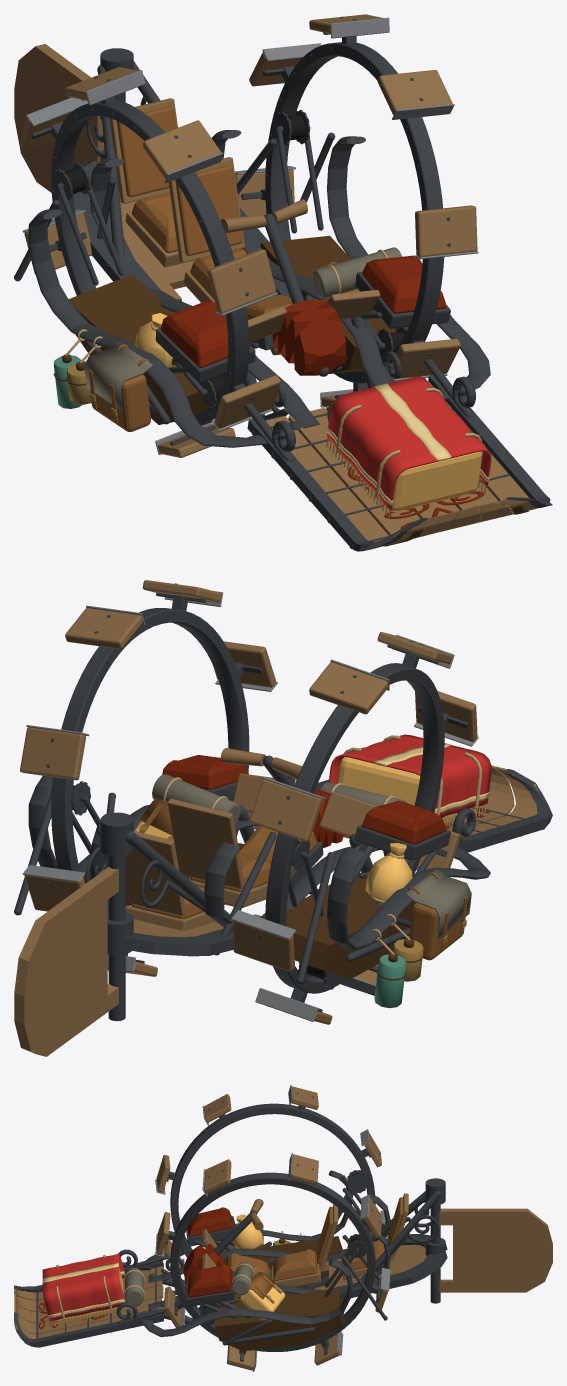
File: desert_monowheel_double.fbx
The picture shows the model from 3 angles, top to bottom: view 1: azimuth 30°, elevation 25°; view 2: azimuth 150°, elevation 25°; view 3: azimuth 270°, elevation 25°; orthographic projection. The views are drawn at different scales.
Parts seen in each view (by area): view 1: Mesh_CargoRug_Double, Mesh_RingR_Double, Mesh_RingL_Double, Mesh_SkiDeck_Double, Mesh_SideHoopOuterR_Double, Mesh_TailPanel_Double, Mesh_SkiRails_Double, Mesh_BellyPanR_Double, Mesh_FrontCowl_Double, Mesh_SideHoopOuterL_Double, Mesh_CargoBundle_Double, Mesh_CheekR_Double (+55 smaller); view 2: Mesh_TailPanel_Double, Mesh_RingR_Double, Mesh_RingL_Double, Mesh_BellyPanR_Double, Mesh_SideHoopOuterR_Double, Mesh_CargoRug_Double, Mesh_Backrest_Double, Mesh_CheekR_Double, Mesh_Paddle07R_Double, Mesh_Paddle07L_Double, Mesh_SeatPostsR_Double, Mesh_PassengerBackrest_Double (+44 smaller); view 3: Mesh_TailPanel_Double, Mesh_RingL_Double, Mesh_BellyPanL_Double, Mesh_CargoRug_Double, Mesh_RingR_Double, Mesh_SkiDeck_Double, Mesh_SideHoopOuterL_Double, Mesh_CheekL_Double, Mesh_SkiRails_Double, Mesh_RearRailL_Double, Mesh_SideSeatCushionL_Double, Mesh_SeatPostsL_Double (+38 smaller).
Part boxes in pixels (left/top/right/bottom): Mesh_CargoRug_Double: left=326, top=376, right=491, bottom=510; Mesh_RingR_Double: left=51, top=99, right=249, bottom=425; Mesh_RingL_Double: left=265, top=42, right=444, bottom=383; Mesh_SkiDeck_Double: left=266, top=381, right=538, bottom=548; Mesh_SideHoopOuterR_Double: left=28, top=209, right=283, bottom=447; Mesh_TailPanel_Double: left=14, top=44, right=104, bottom=192; Mesh_SkiRails_Double: left=247, top=375, right=552, bottom=551; Mesh_BellyPanR_Double: left=68, top=274, right=208, bottom=424; Mesh_FrontCowl_Double: left=272, top=300, right=347, bottom=375; Mesh_SideHoopOuterL_Double: left=327, top=136, right=490, bottom=399; Mesh_CargoBundle_Double: left=335, top=447, right=482, bottom=511; Mesh_CheekR_Double: left=85, top=65, right=300, bottom=461; Mesh_TailPanel_Double: left=14, top=867, right=118, bottom=1056; Mesh_RingR_Double: left=265, top=663, right=444, bottom=993; Mesh_RingL_Double: left=51, top=608, right=249, bottom=871; Mesh_BellyPanR_Double: left=286, top=872, right=415, bottom=978; Mesh_SideHoopOuterR_Double: left=327, top=847, right=490, bottom=949; Mesh_CargoRug_Double: left=329, top=734, right=491, bottom=817; Mesh_Backrest_Double: left=167, top=798, right=244, bottom=888; Mesh_CheekR_Double: left=125, top=808, right=475, bottom=918; Mesh_Paddle07R_Double: left=249, top=779, right=322, bottom=841; Mesh_Paddle07L_Double: left=20, top=727, right=86, bottom=780; Mesh_SeatPostsR_Double: left=215, top=832, right=410, bottom=983; Mesh_PassengerBackrest_Double: left=125, top=831, right=186, bottom=915; Mesh_TailPanel_Double: left=439, top=1208, right=552, bottom=1292; Mesh_RingL_Double: left=170, top=1172, right=375, bottom=1351; Mesh_BellyPanL_Double: left=214, top=1288, right=343, bottom=1351; Mesh_CargoRug_Double: left=42, top=1254, right=124, bottom=1321; Mesh_RingR_Double: left=170, top=1103, right=375, bottom=1294; Mesh_SkiDeck_Double: left=14, top=1264, right=163, bottom=1343; Mesh_SideHoopOuterL_Double: left=138, top=1258, right=352, bottom=1336; Mesh_CheekL_Double: left=116, top=1191, right=441, bottom=1323; Mesh_SkiRails_Double: left=14, top=1260, right=163, bottom=1347; Mesh_RearRailL_Double: left=325, top=1251, right=447, bottom=1300; Mesh_SideSeatCushionL_Double: left=187, top=1264, right=232, bottom=1297; Mesh_SeatPostsL_Double: left=222, top=1235, right=387, bottom=1345.
Bounding box in the file's own units: 391 × 393 × 893.
